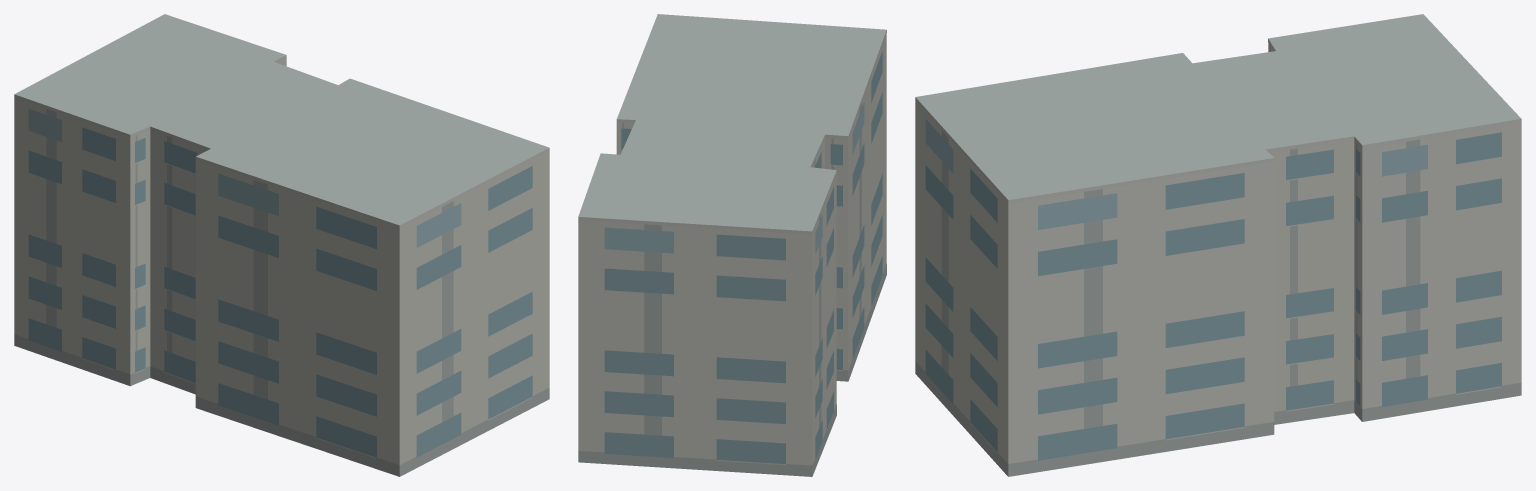
The model's file is survey-upis-32862391.glb.
The picture shows the model from 3 angles, left to right: view 1: azimuth 30°, elevation 25°; view 2: azimuth 150°, elevation 25°; view 3: azimuth 270°, elevation 25°; orthographic projection. The views are drawn at different scales.
Visible parts, largest first — view 1: survey-upis-32862391.tmp; view 2: survey-upis-32862391.tmp; view 3: survey-upis-32862391.tmp.
Part boxes in pixels (box(x1,y1,x2,y2)): survey-upis-32862391.tmp: box(14, 14, 549, 476); survey-upis-32862391.tmp: box(578, 14, 886, 476); survey-upis-32862391.tmp: box(915, 14, 1521, 476).
Bounding box in the file's own units: 26.28 × 18.2 × 36.15.
